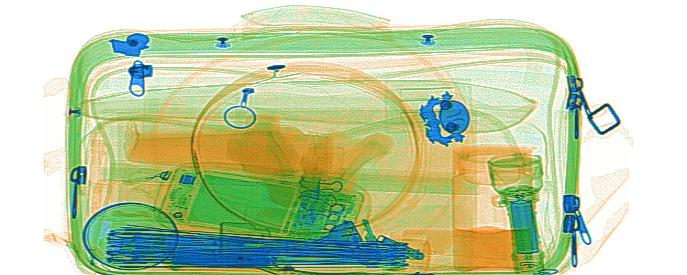battery: (510, 198, 541, 256)
